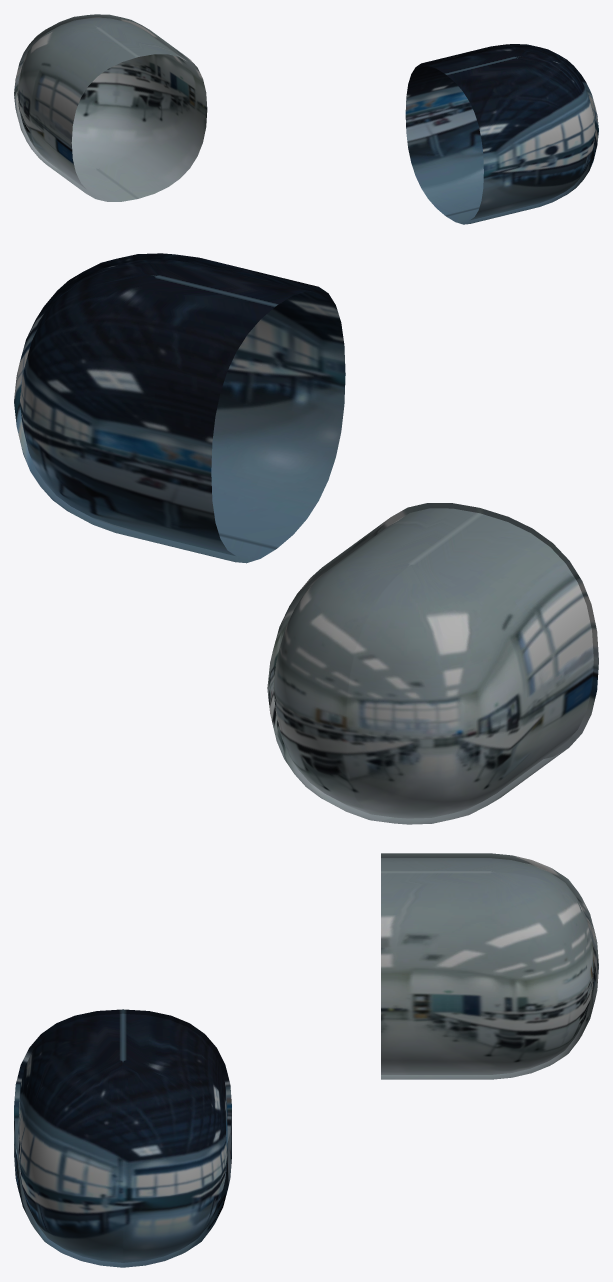
File: falsi-v1.glb
3 renders of one model, top to bottom at view 1: azimuth 30°, elevation 25°; view 2: azimuth 150°, elevation 25°; view 3: azimuth 270°, elevation 25°, orthographic. The views are drawn at different scales.
Visible parts, largest first — view 1: Box105, Box106; view 2: Box105, Box106; view 3: Box105, Box106.
Part boxes in pixels (x1,y1,x2,y2): Box105: (405,44,598,224); Box106: (14,14,207,201); Box105: (14,253,345,563); Box106: (267,503,598,824); Box105: (14,1009,231,1267); Box106: (381,853,598,1079).
Bounding box in the file's own units: 6.99 × 2.3 × 6.17.
Materials: 2 (2 with a texture image).
